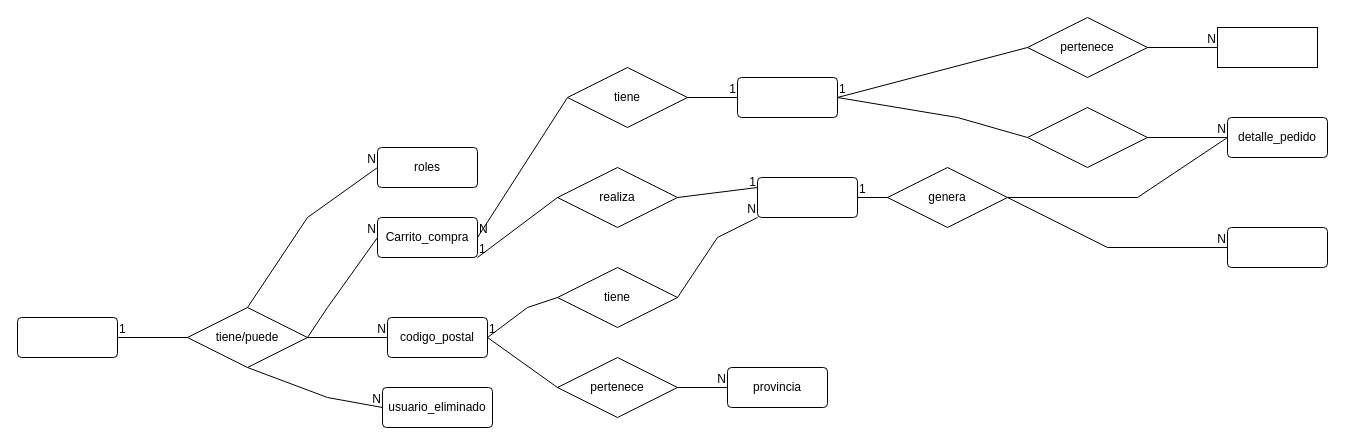
This 1345x445 diagram has some shape labels left out. Each missing label, with the centre of its shape:
"categoria" goes at point 1267,47.
"contiene" goes at point 1087,137.
"forma_de_pago" goes at point 1277,247.
"pedido" goes at point 807,197.
"Productos" goes at point 787,97.
"Usuarios" goes at point 67,337.
